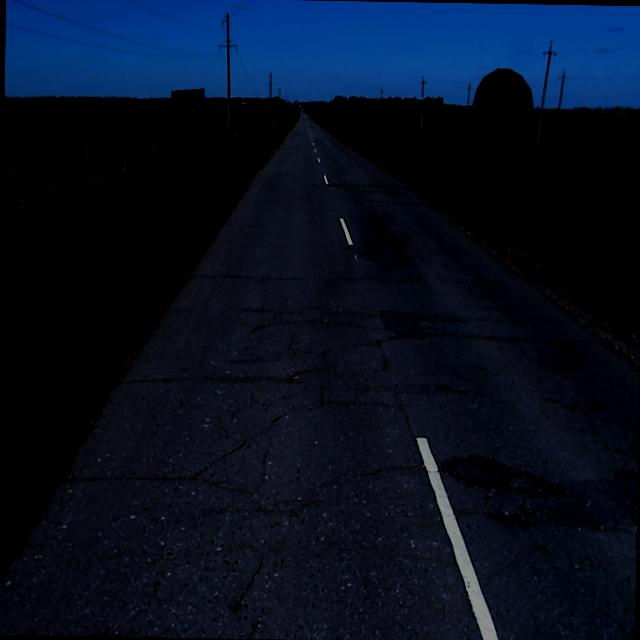road: (0, 113, 639, 640)
